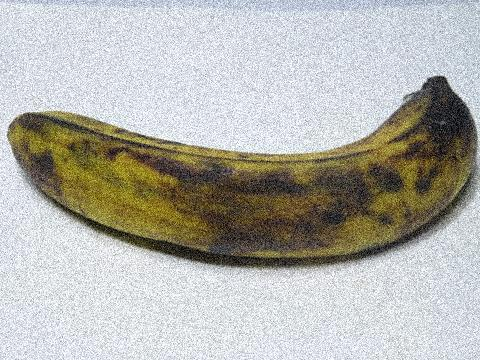overripe: (11, 72, 479, 292)
rotten: (387, 73, 479, 161)
